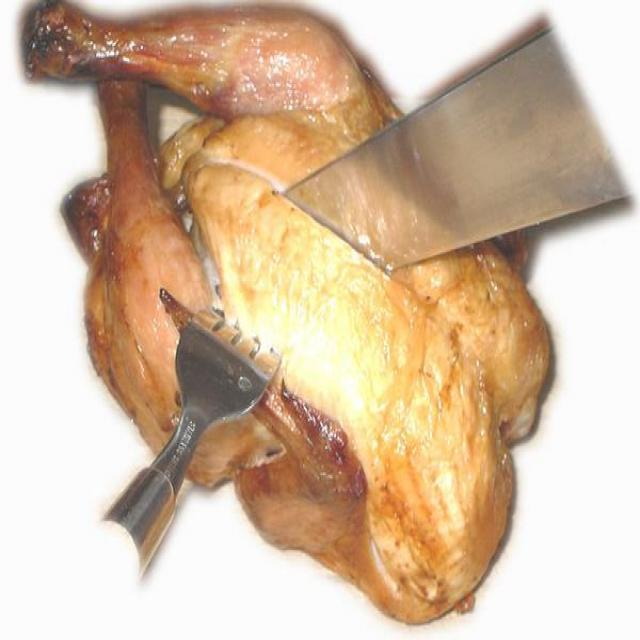Chicken roast: (18, 6, 554, 629)
